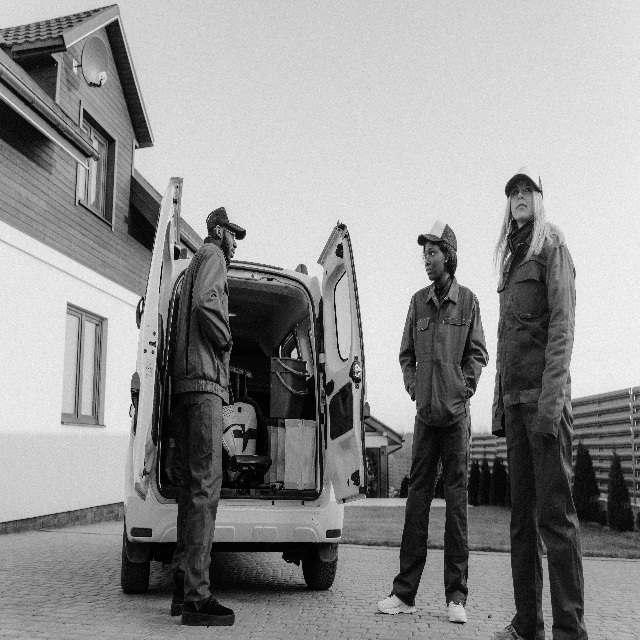Gafas: (213, 226, 236, 243)
